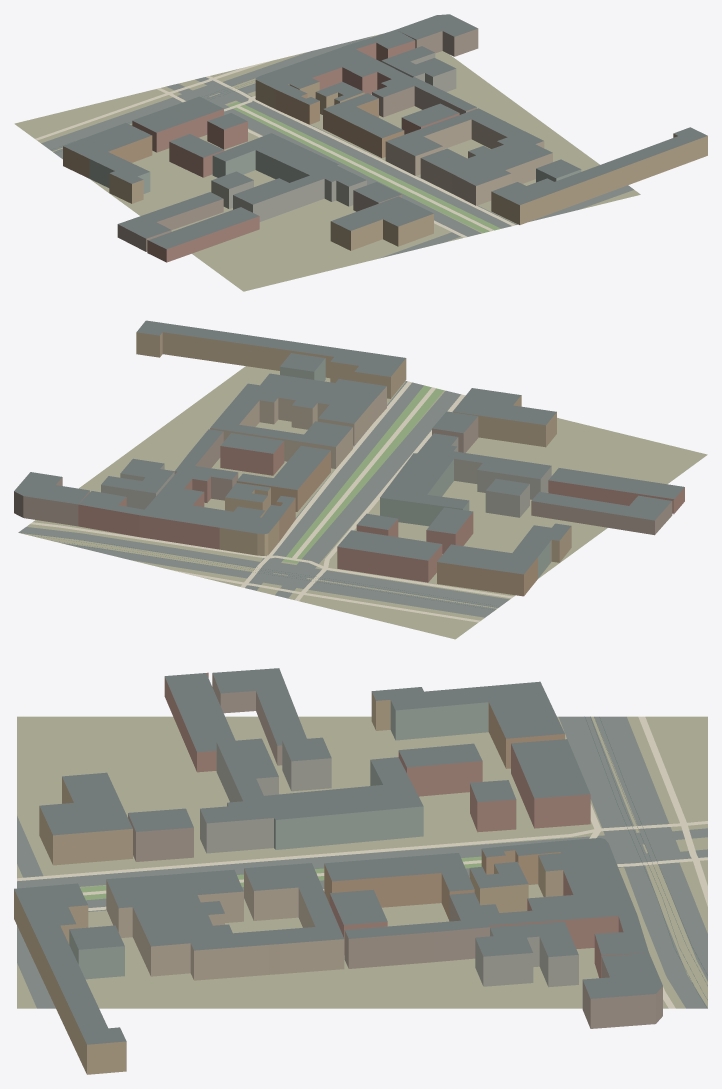
The model's file is sector-1_-6.glb.
The picture shows the model from 3 angles, top to bottom: view 1: azimuth 30°, elevation 25°; view 2: azimuth 150°, elevation 25°; view 3: azimuth 270°, elevation 25°; orthographic projection. The views are drawn at different scales.
Parts seen in each view (by area): view 1: 1:-6-facade, 1:-6-roof, 1:-6-ground, 1:-6-road, 1:-6-paving, 1:-6-park; view 2: 1:-6-roof, 1:-6-facade, 1:-6-ground, 1:-6-road, 1:-6-paving, 1:-6-park; view 3: 1:-6-roof, 1:-6-ground, 1:-6-facade, 1:-6-road, 1:-6-paving, 1:-6-rail.
Part boxes in pixels (x1,y1,x2,y2): 1:-6-facade: [63, 28, 707, 262]; 1:-6-roof: [63, 14, 707, 249]; 1:-6-ground: [14, 33, 640, 291]; 1:-6-road: [41, 36, 633, 258]; 1:-6-paving: [35, 60, 515, 237]; 1:-6-park: [227, 101, 500, 232]; 1:-6-roof: [14, 320, 684, 574]; 1:-6-facade: [14, 332, 684, 596]; 1:-6-ground: [20, 366, 707, 639]; 1:-6-road: [18, 381, 558, 617]; 1:-6-paving: [30, 381, 513, 622]; 1:-6-park: [282, 385, 443, 563]; 1:-6-roof: [14, 668, 662, 1044]; 1:-6-ground: [17, 716, 707, 1008]; 1:-6-facade: [14, 672, 662, 1074]; 1:-6-road: [17, 716, 707, 1008]; 1:-6-paving: [17, 716, 707, 1008]; 1:-6-rail: [585, 717, 707, 1007].
Size of the model in its own units: 265 by 9.6 by 201.
